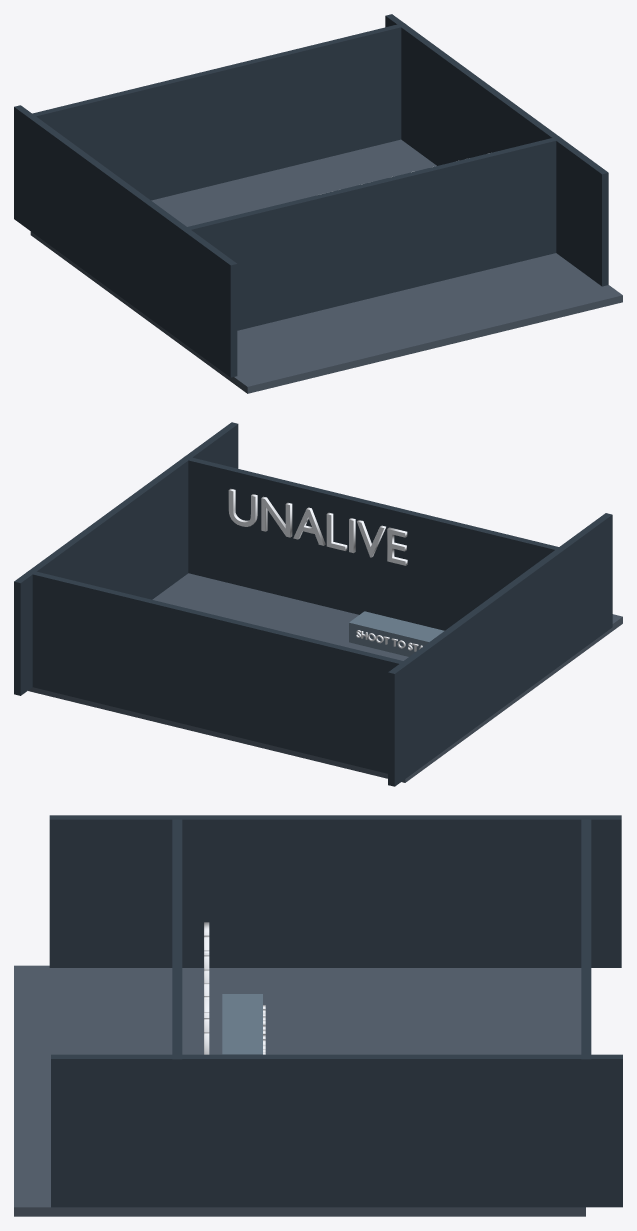
File: title.gltf
3 views of the same model, one above another, from view 1: azimuth 30°, elevation 25°; view 2: azimuth 150°, elevation 25°; view 3: azimuth 270°, elevation 25° (orthographic). The views are drawn at different scales.
Parts seen in each view (by area): view 1: Backdrop.004, Backdrop.005, Floor.001, Backdrop.007, Backdrop.006; view 2: Backdrop.005, Backdrop.004, Backdrop.007, Backdrop.006, Floor.001, Game_Title.001, Start_Platform.001; view 3: Backdrop.006, Backdrop.007, Floor.001, Backdrop.004, Backdrop.005, Start_Platform.001, Game_Title.001.
Boxes of the visible parts, box(x1,y1,x2,y2) form: Backdrop.004: box(185, 138, 562, 330); Backdrop.005: box(29, 23, 406, 200); Floor.001: box(30, 139, 622, 393); Backdrop.007: box(14, 105, 237, 377); Backdrop.006: box(385, 14, 608, 286); Backdrop.005: box(29, 570, 406, 773); Backdrop.004: box(182, 456, 561, 630); Backdrop.007: box(388, 513, 612, 786); Backdrop.006: box(14, 422, 238, 695); Floor.001: box(28, 573, 622, 782); Game_Title.001: box(228, 488, 407, 565); Start_Platform.001: box(349, 611, 444, 656); Backdrop.006: box(51, 1054, 622, 1207); Backdrop.007: box(49, 815, 621, 967); Floor.001: box(14, 965, 585, 1216); Backdrop.004: box(172, 817, 182, 1207); Backdrop.005: box(581, 817, 591, 1207); Start_Platform.001: box(222, 994, 262, 1054); Game_Title.001: box(204, 922, 209, 1054).
Size of the model in its own units: 28.24 by 8.5 by 29.82.
